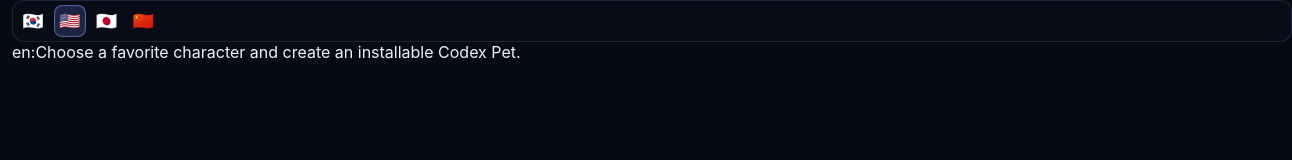
Test: I18nProvider and LocaleSelector › 국기 button의 native 이름·선택 상태로 locale과 document lang을 바꿔 저장한다
This screenshot has width=1292, height=160.
Expected: the element named "Language" is shown, [12,0,1291,42]
Click the button named "日本語".
click(107, 21)  # box [91,5,123,37]
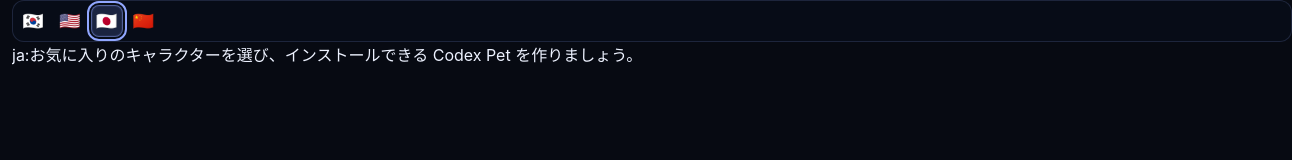
Result: the element named "言語を選択" is shown at [12,0,1291,42]
Result: the text "ja:お気に入りのキャラクターを選び、インストールできる Codex Pet を作りましょう。" is shown at [12,45,642,65]
